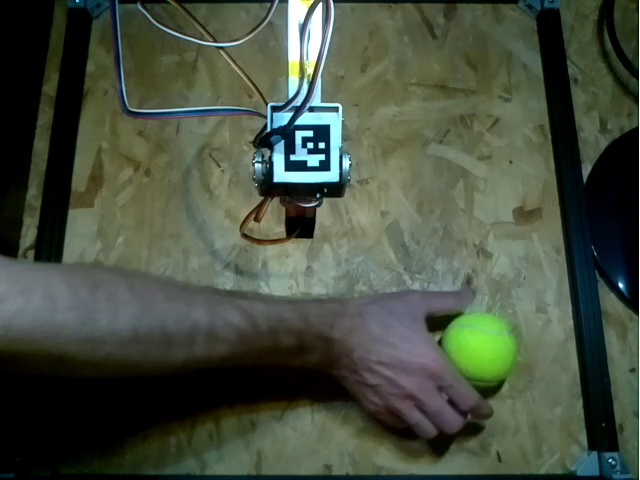tennis_ball: (442, 312, 517, 387)
